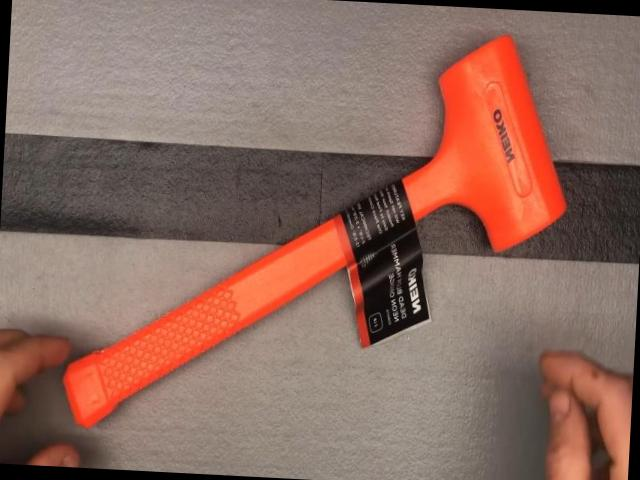hammer: (60, 14, 578, 450)
